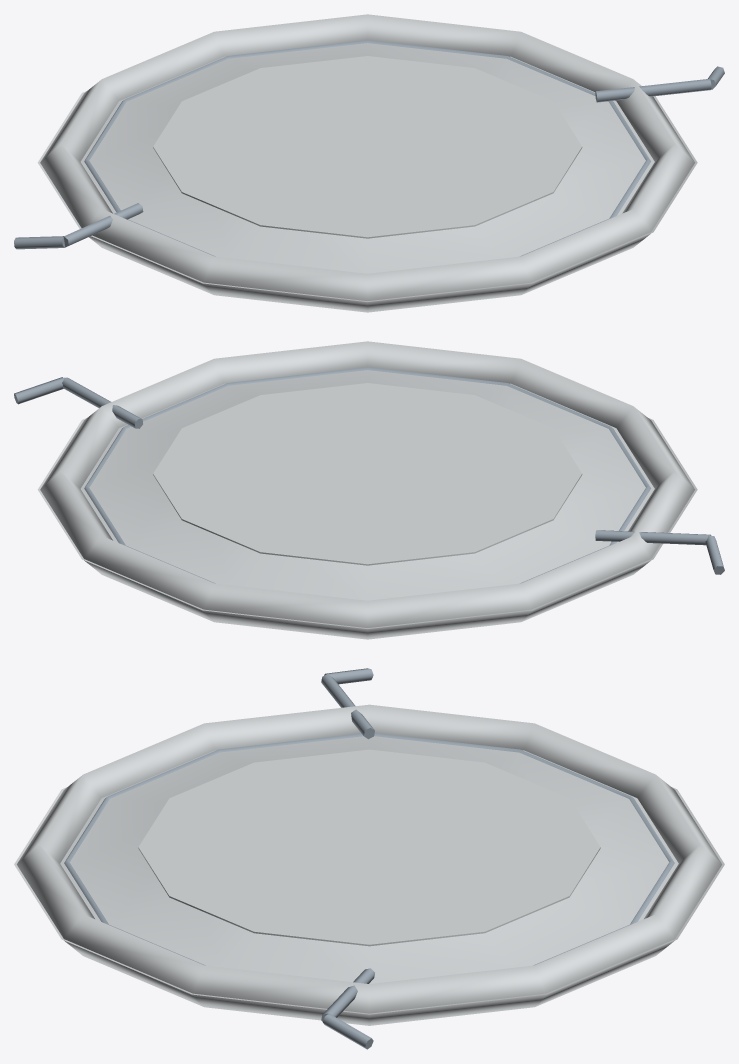
Rendered from source.glb.
The picture shows the model from 3 angles, top to bottom: view 1: azimuth 30°, elevation 25°; view 2: azimuth 150°, elevation 25°; view 3: azimuth 270°, elevation 25°; orthographic projection. The views are drawn at different scales.
Parts seen in each view (by area): view 1: 粉末涂层铝壳, 机加工金属; view 2: 粉末涂层铝壳, 机加工金属; view 3: 粉末涂层铝壳, 机加工金属.
Part boxes in pixels (x1,y1,x2,y2): 粉末涂层铝壳: (37, 14, 697, 312); 机加工金属: (14, 40, 724, 256); 粉末涂层铝壳: (37, 341, 697, 639); 机加工金属: (14, 367, 724, 583); 粉末涂层铝壳: (14, 704, 724, 1025); 机加工金属: (64, 668, 674, 1049).
Bounding box in the file's own units: 0.373 × 0.0198 × 0.3.
